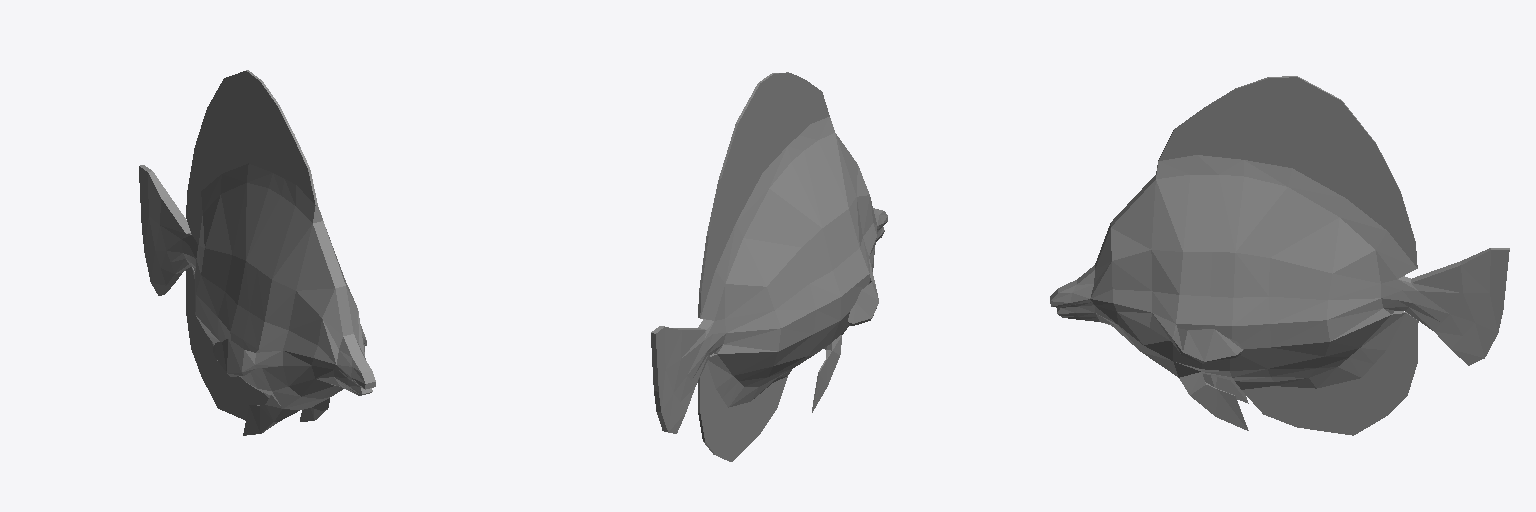
Rendered from TropicalFish05.obj.
3 views of the same model, side by side, from view 1: azimuth 30°, elevation 25°; view 2: azimuth 150°, elevation 25°; view 3: azimuth 270°, elevation 25° (orthographic).
Visible parts, largest first — view 1: TropicalFish05; view 2: TropicalFish05; view 3: TropicalFish05.
Boxes of the visible parts, <box> form: TropicalFish05: <box>139,70,375,435</box>; TropicalFish05: <box>651,72,887,461</box>; TropicalFish05: <box>1050,76,1509,435</box>.
Size of the model in its own units: 152 by 389 by 452.